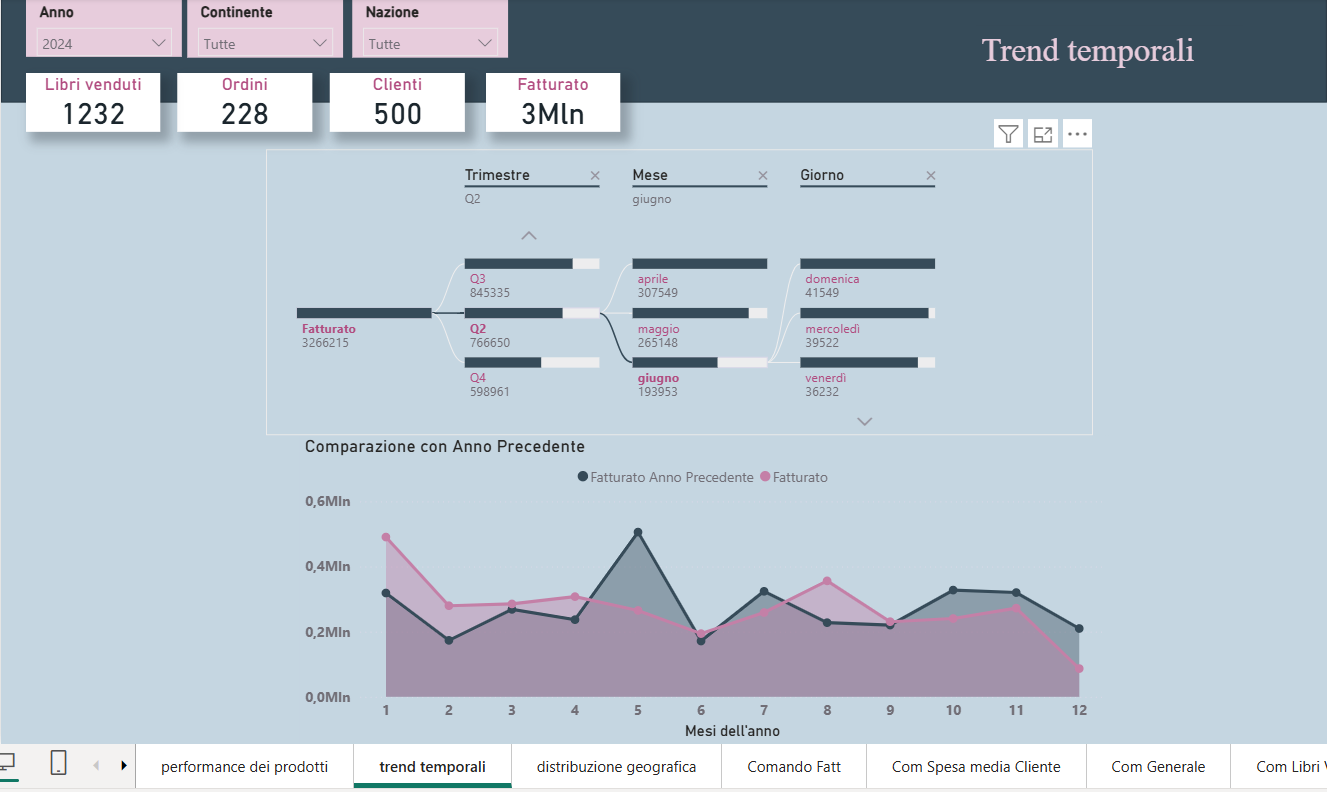

Layout of this report page (visuals, bound fields, positions):
{"tool":"powerbi","page":{"name":"trend temporali","canvas":[1280,720],"ordinal":1},"visuals":[{"type":"shape","box":[0,0,1279.7,100.9],"z":0},{"type":"lineChart","title":"Comparazione con Anno Precedente","fields":{"Category":["Calendar.MonthNumber"],"Y":["Books.RevenuePP","Books.Total Revenue"]},"box":[288,422.6,781.9,297.9],"z":1000},{"type":"decompositionTreeVisual","fields":{"Analyze":["Books.Total Revenue"],"ExplainBy":["Calendar.Quarter","Calendar.Month","Calendar.Weekday"]},"box":[256.3,145.5,798.7,277.1],"z":2000},{"type":"slicer","fields":{"Values":["Customers.Country"]},"box":[339.5,0,150.4,57.4],"z":3000},{"type":"slicer","fields":{"Values":["Calendar.Year"]},"box":[23.8,0,150.4,57],"z":4000},{"type":"slicer","fields":{"Values":["Customers.Continent"]},"box":[181.1,1,150.4,57.4],"z":5000},{"type":"card","title":"Fatturato","fields":{"Values":["Books.Total Revenue"]},"box":[468.1,72.2,129.6,56.4],"z":6000},{"type":"card","title":"Ordini","fields":{"Values":["Books.Total Orders"]},"box":[170.2,72.2,130.6,56.4],"z":7000},{"type":"card","title":"Libri venduti","fields":{"Values":["Books.Total Books Sold"]},"box":[23.8,72.2,129.6,56.4],"z":8000},{"type":"card","title":"Clienti","fields":{"Values":["Customers.Distinct Customers"]},"box":[317.7,72.2,130.6,56.4],"z":9000},{"type":"textbox","box":[941.2,26.7,257.3,52.5],"z":10000}]}

Visuals, with their boxes on the page's 1280x720 design canvas (x1, y1, x2, y2). These are canvas units, not pixel positions in the 1327x792 screenshot, which may show the page scaled, cropped or inside an application window:
shape: 0, 0, 1280, 101
"Comparazione con Anno Precedente" lineChart: 288, 423, 1070, 720
decompositionTreeVisual - Books.Total Revenue x Calendar.Quarter: 256, 146, 1055, 423
slicer - Customers.Country: 340, 0, 490, 57
slicer - Calendar.Year: 24, 0, 174, 57
slicer - Customers.Continent: 181, 1, 332, 58
"Fatturato" card: 468, 72, 598, 129
"Ordini" card: 170, 72, 301, 129
"Libri venduti" card: 24, 72, 153, 129
"Clienti" card: 318, 72, 448, 129
textbox: 941, 27, 1198, 79
